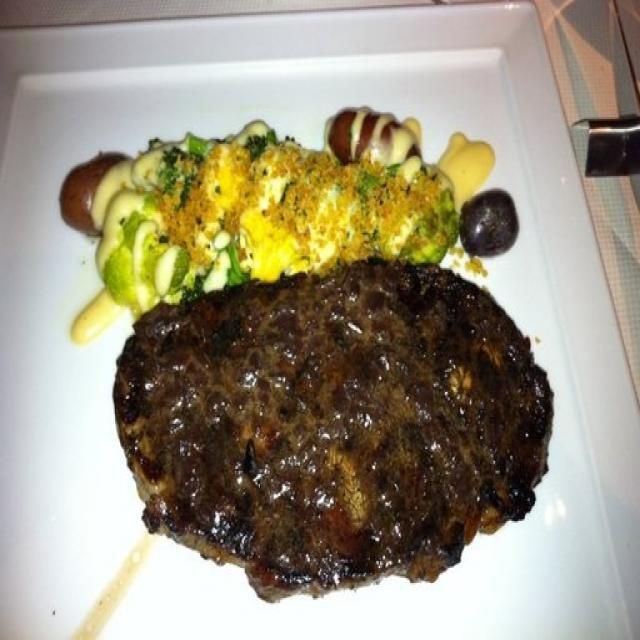Steak: (104, 300, 562, 572)
